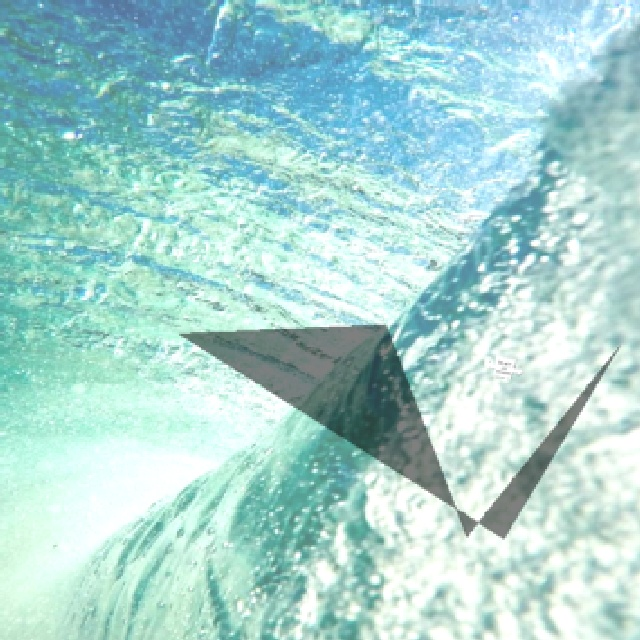DO_NOT_GO_AROUND: (482, 353, 522, 378)
